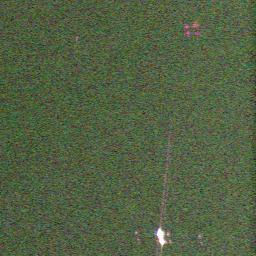Ship: (151, 226, 171, 245)
